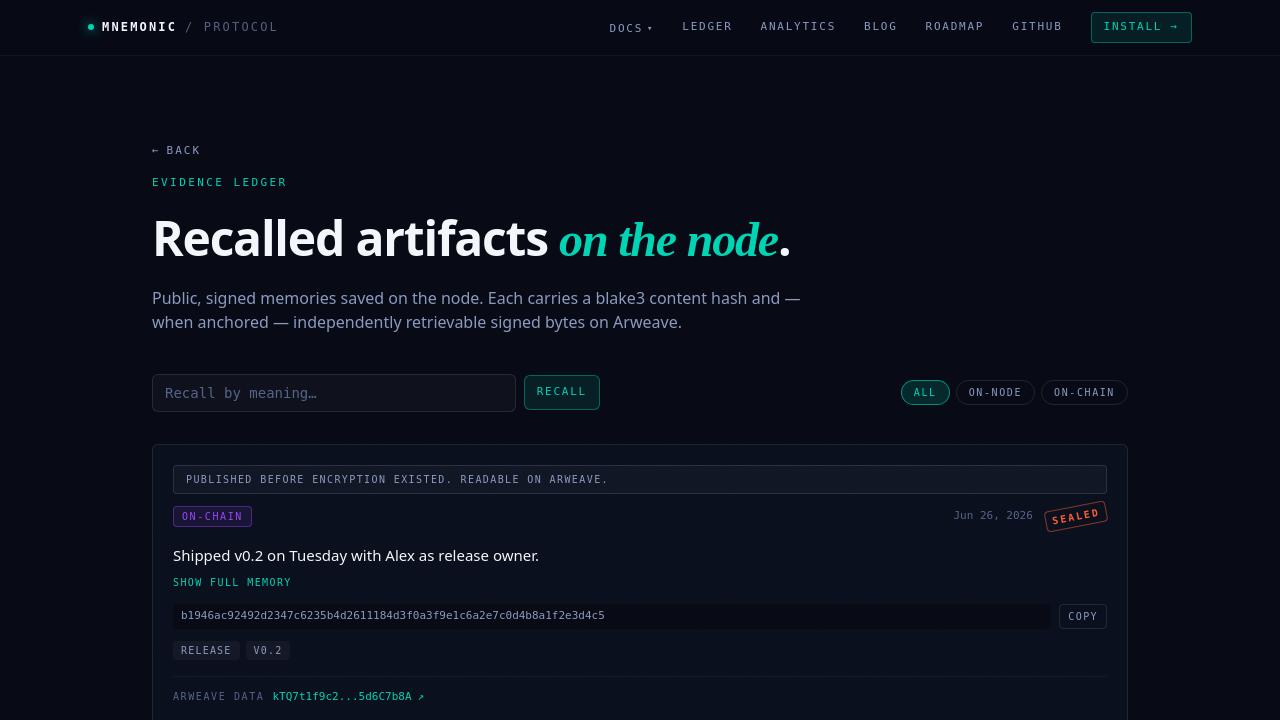
Ledger page › shows_empty_state_when_no_matches
Expected: the text "Shipped v0.2 on Tuesday with Alex as release owner." is shown, [173,544,539,564]
Type "zzz-no-such-memory" into the search field labelled "Recall by meaning…". click: {"x": 334, "y": 392}
box: [152,374,516,412]
Then press Enter
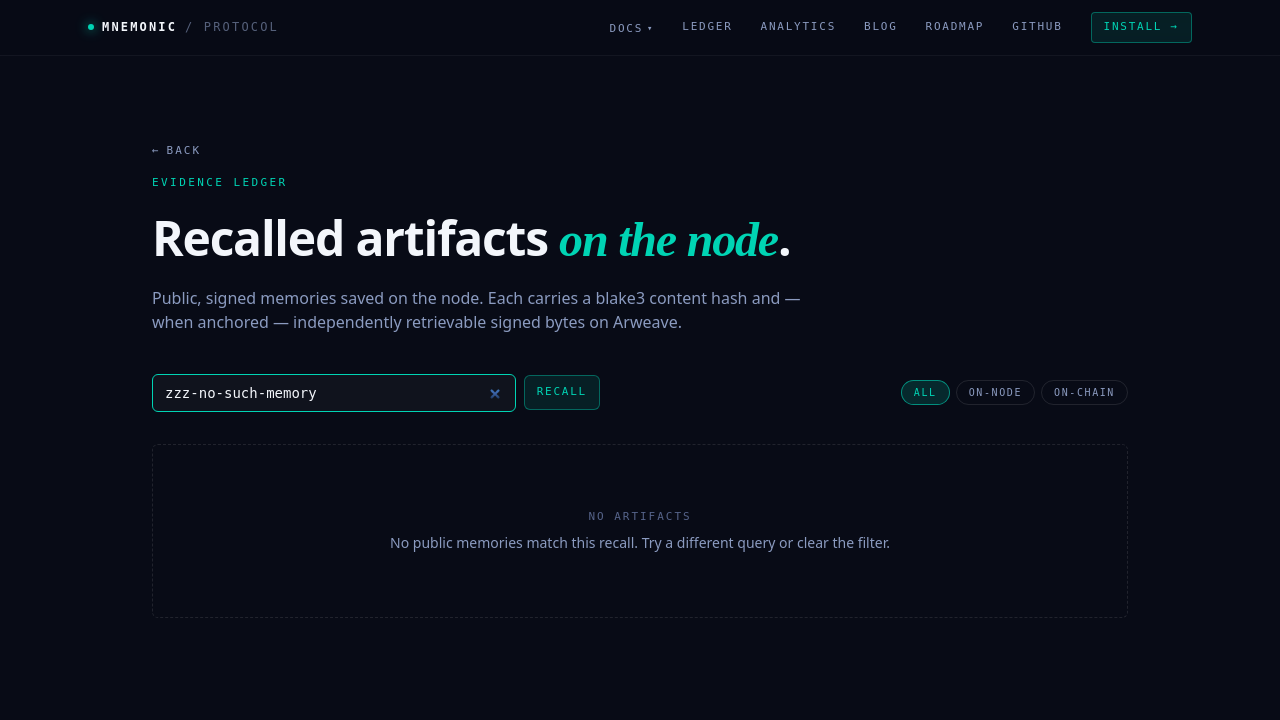
Expected: the element with test id "ledger-empty" is shown, [152,444,1128,618]
